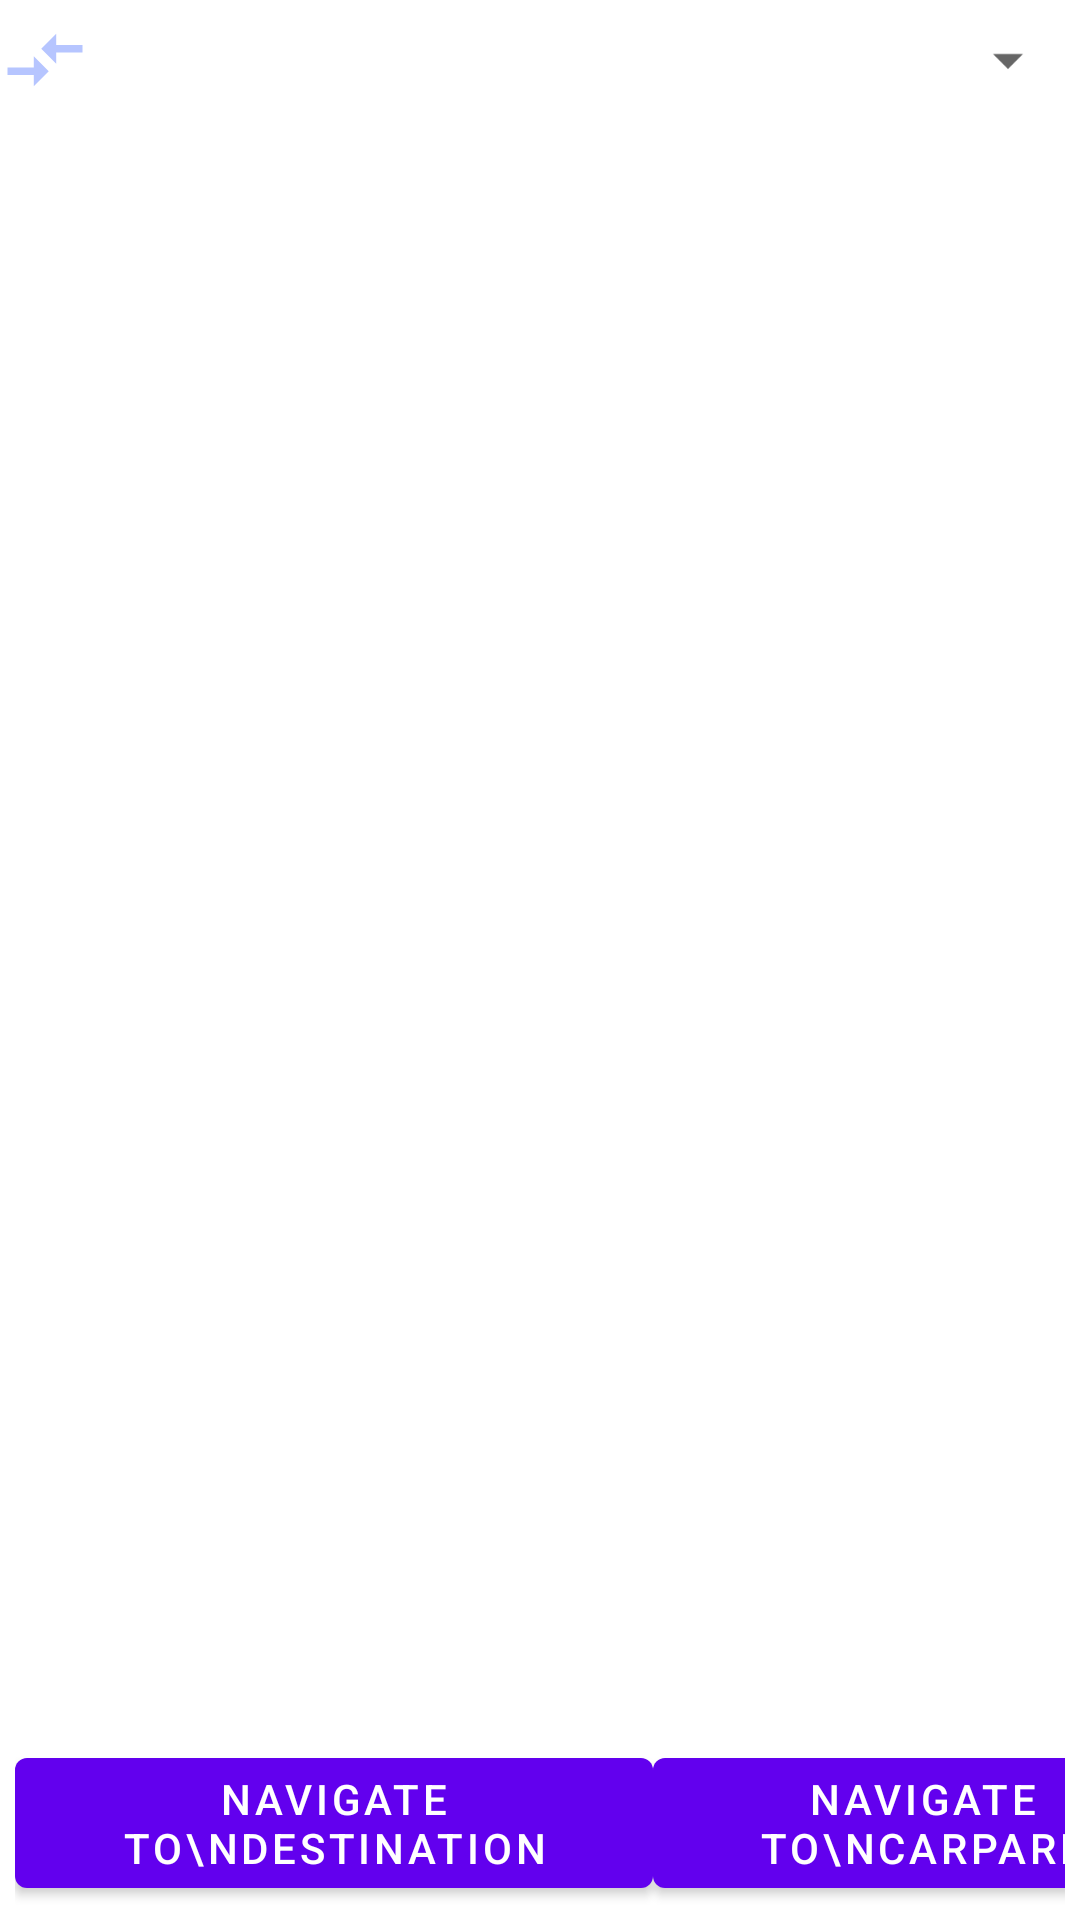

Where to tap for icons on this 1080w x 1920h app screen, as (x,y):
compare arrows: (45,60)
